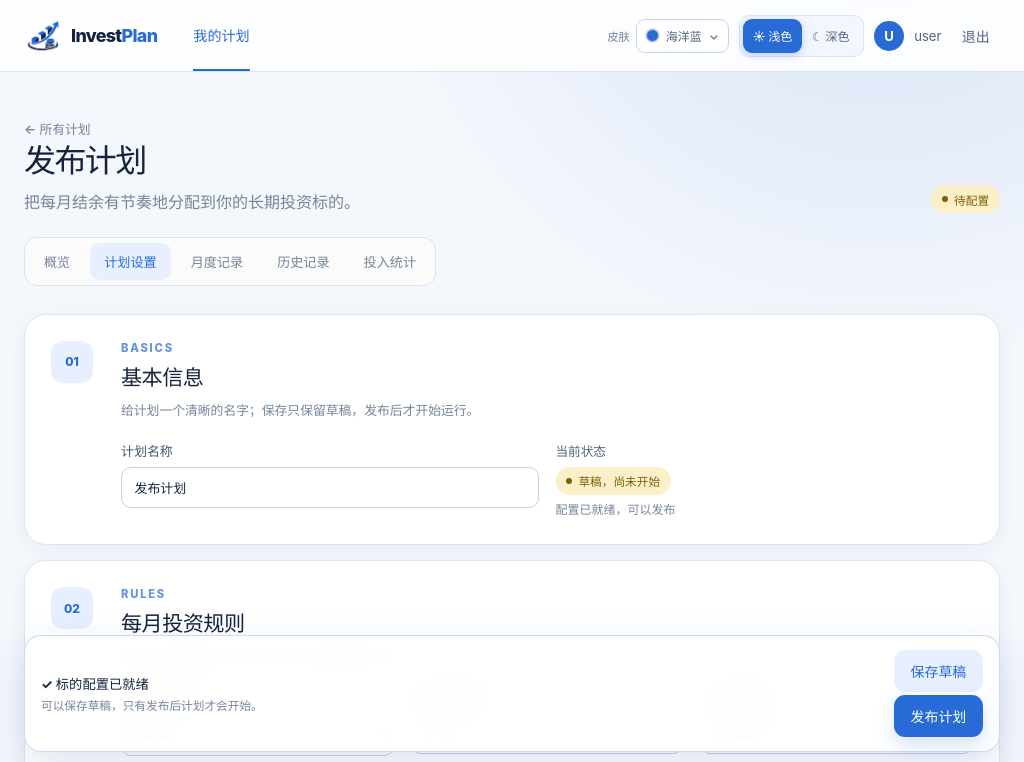
it: investment target settings › publishes ready settings with distinct feedback and hides draft deletion
Click the button "发布计划".
click(938, 716)  # box [894,695,983,737]
(page scrolled)
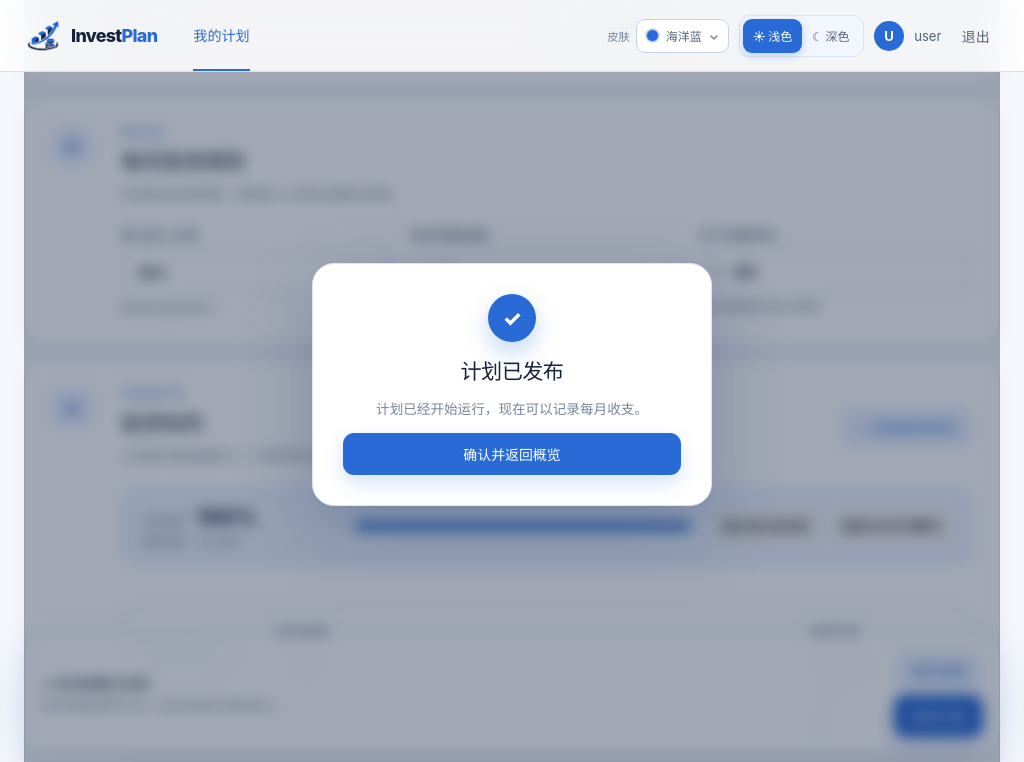
Result: the dialog "计划已发布" shows "计划已经开始运行" at [376,401,648,417]
